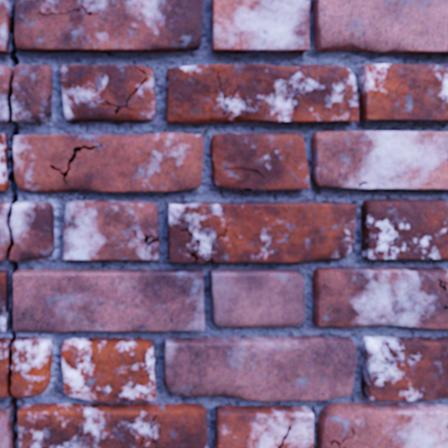brick: (166, 64, 447, 123), (164, 335, 356, 400), (14, 269, 203, 331), (168, 202, 356, 262), (14, 133, 202, 191), (15, 0, 202, 52), (18, 403, 206, 447), (312, 267, 447, 328), (311, 131, 447, 188), (313, 0, 447, 53), (61, 338, 155, 401), (316, 403, 447, 447), (63, 200, 158, 259), (361, 337, 447, 401), (210, 133, 308, 189), (210, 269, 304, 326), (61, 65, 155, 121), (361, 199, 447, 259), (211, 0, 309, 52), (216, 405, 313, 447), (0, 270, 8, 331), (0, 0, 9, 53), (0, 134, 8, 190), (0, 408, 11, 447), (141, 432, 154, 447)
broken_brick: (11, 200, 54, 261), (12, 336, 52, 397), (12, 64, 52, 122), (0, 201, 9, 261), (0, 65, 9, 123), (0, 337, 8, 399)
crack: (2, 2, 19, 447), (89, 65, 147, 114), (126, 224, 159, 252), (179, 220, 200, 263), (138, 411, 157, 447), (330, 426, 355, 447), (277, 424, 291, 447), (204, 238, 216, 263), (437, 278, 447, 291), (355, 180, 368, 188), (244, 187, 252, 190), (443, 305, 447, 309)
